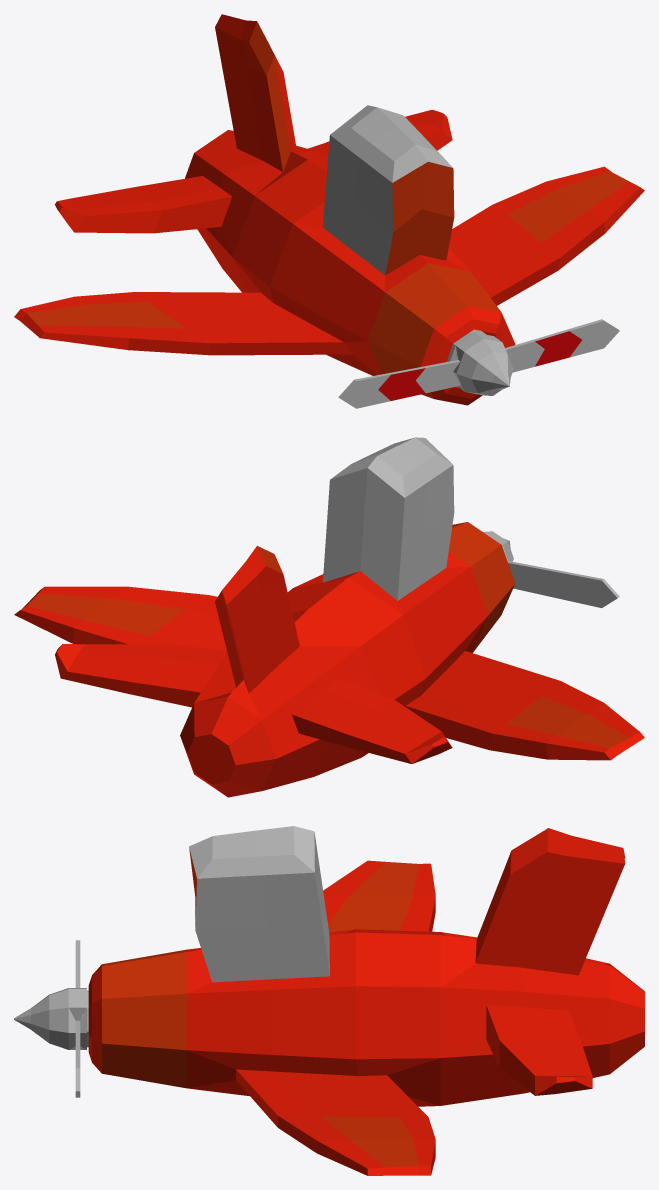
The model's file is avion.obj.
3 renders of one model, top to bottom at view 1: azimuth 30°, elevation 25°; view 2: azimuth 150°, elevation 25°; view 3: azimuth 270°, elevation 25°, orthographic. The views are drawn at different scales.
Parts seen in each view (by area): view 1: Cylinder, Cylinder_001; view 2: Cylinder, Cylinder_001; view 3: Cylinder, Cylinder_001.
Part boxes in pixels (box(x1,y1,x2,y2)): Cylinder: box(14, 14, 644, 405); Cylinder_001: box(338, 319, 619, 408); Cylinder: box(14, 437, 644, 797); Cylinder_001: box(483, 531, 619, 608); Cylinder: box(88, 826, 644, 1175); Cylinder_001: box(14, 940, 88, 1097).
Size of the model in its own units: 10.03 by 4.18 by 8.55.
